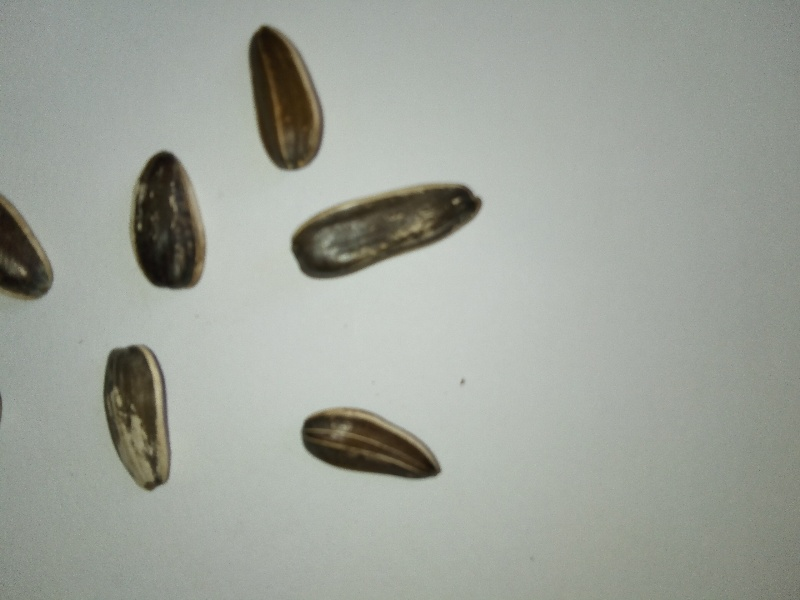girasol: (278, 175, 490, 289), (234, 16, 338, 176), (287, 400, 452, 491), (119, 144, 214, 297), (88, 341, 178, 497)
